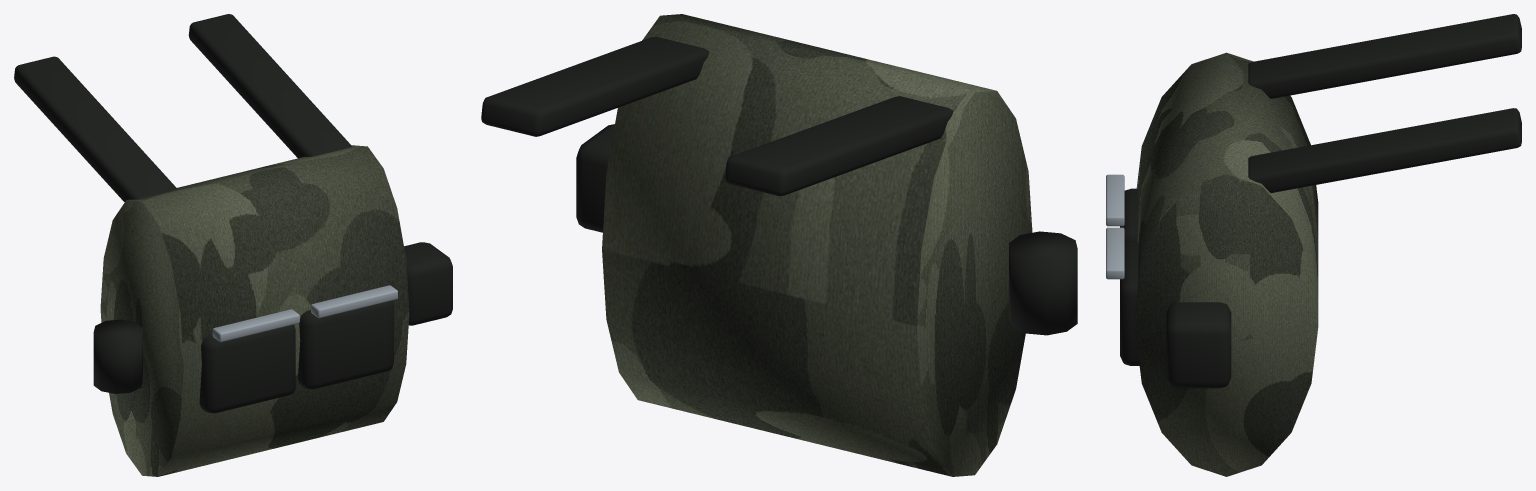
The model's file is gear_rig_small.glb.
3 renders of one model, left to right at view 1: azimuth 30°, elevation 25°; view 2: azimuth 150°, elevation 25°; view 3: azimuth 270°, elevation 25°, orthographic. The views are drawn at different scales.
Visible parts, largest first — view 1: Gear; view 2: Gear; view 3: Gear.
Boxes of the visible parts, x1,y1,x2,y2 form: Gear: [14, 14, 452, 476]; Gear: [481, 14, 1077, 476]; Gear: [1106, 14, 1521, 476].
Bounding box in the file's own units: 0.4735 × 0.4109 × 0.4483.
4 materials, 2 textured.
